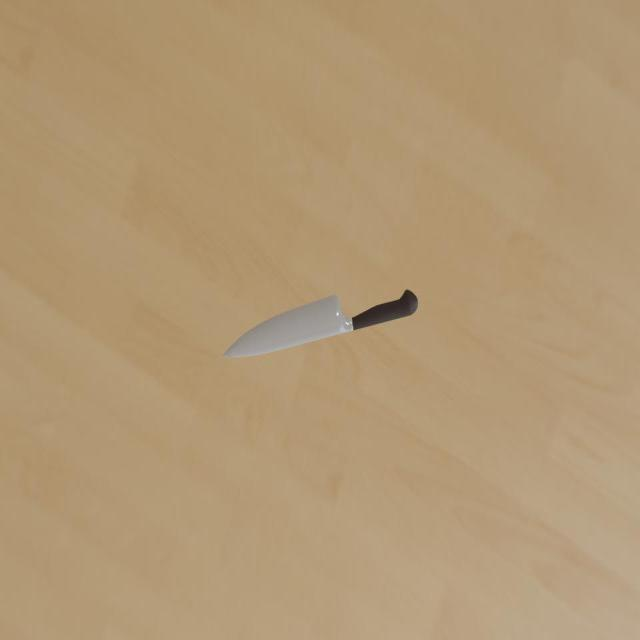knife: (350, 290, 418, 330)
